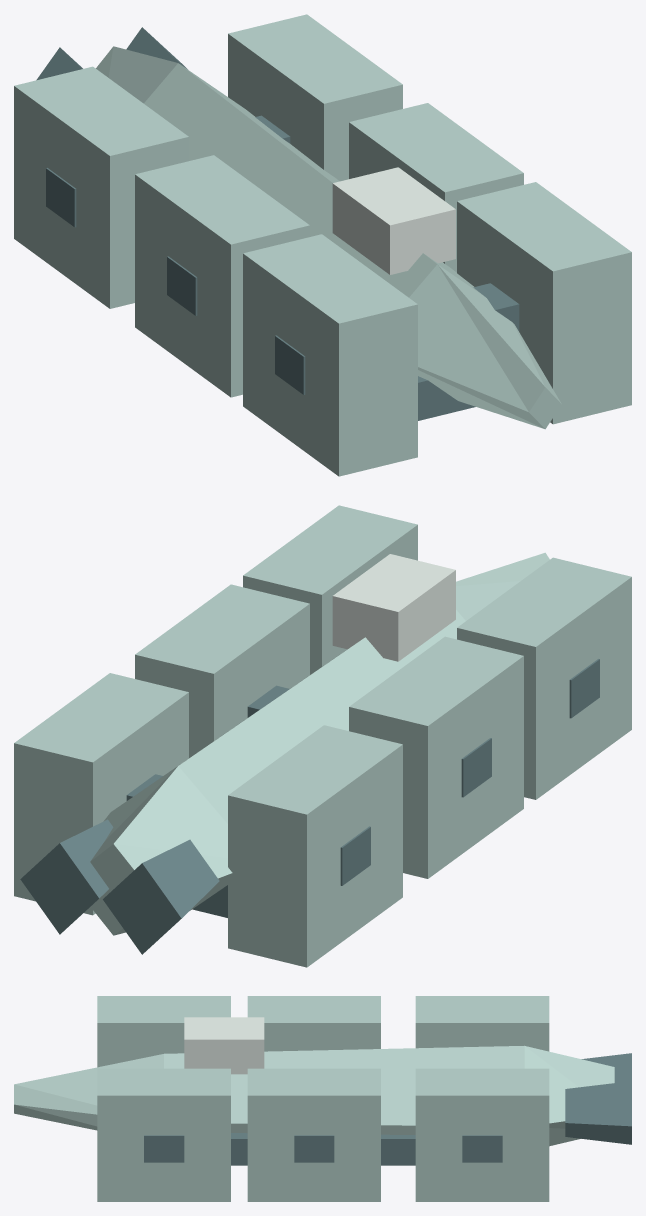
3 renders of one model, top to bottom at view 1: azimuth 30°, elevation 25°; view 2: azimuth 150°, elevation 25°; view 3: azimuth 270°, elevation 25°, orthographic. The views are drawn at different scales.
Bounding box in the file's own units: 3.6 × 2.06 × 9.35.
